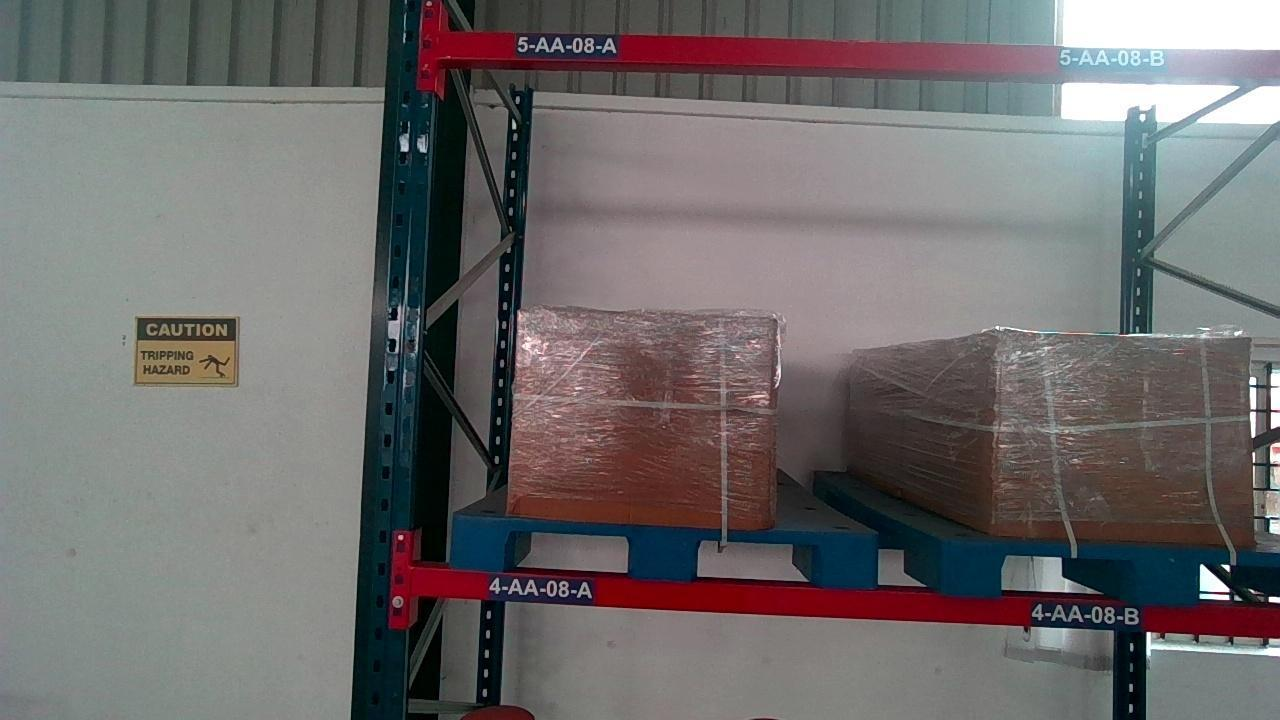h_rack: (427, 574, 1280, 637), (439, 32, 1280, 82)
small_pallet: (448, 519, 881, 583), (951, 543, 1276, 602)
